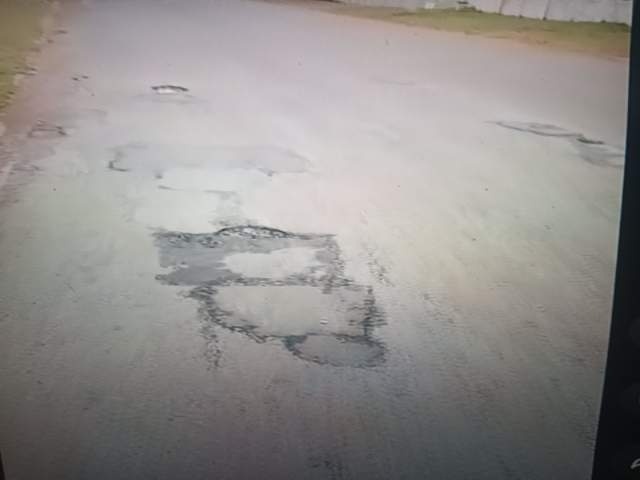pothole: (125, 403, 341, 480), (169, 403, 376, 480)
